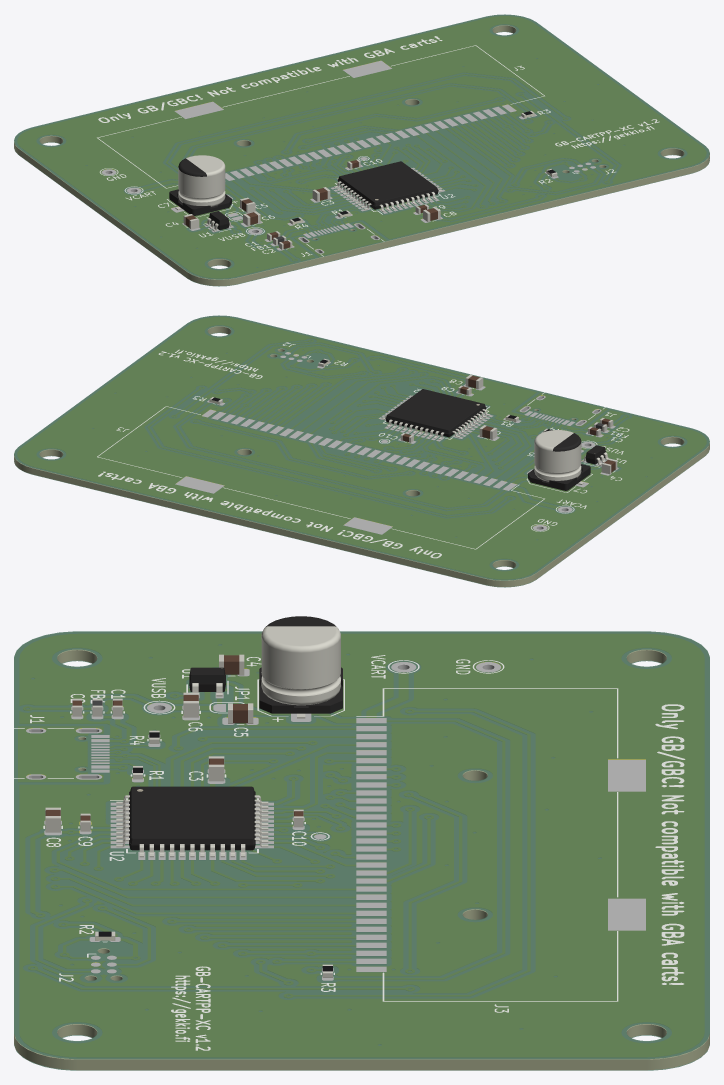
The model's file is board.glb.
3 renders of one model, top to bottom at view 1: azimuth 30°, elevation 25°; view 2: azimuth 150°, elevation 25°; view 3: azimuth 270°, elevation 25°, orthographic. The views are drawn at different scales.
Visible parts, largest first — view 1: board_soldermask (×2), board_copper, board_PCB, board_pad, board_silkscreen, TQFP-44_10x10mm_P0.8mm, CP_Elec_63x58; view 2: board_soldermask (×2), board_copper, board_PCB, board_pad, TQFP-44_10x10mm_P0.8mm, board_silkscreen, CP_Elec_63x58; view 3: board_soldermask (×2), board_copper, board_PCB, board_pad, TQFP-44_10x10mm_P0.8mm, board_silkscreen, CP_Elec_63x58, SOT-23-5.
Part boxes in pixels (box(x1,y1,x2,y2)): board_soldermask (×2): box(14, 14, 709, 286); board_copper: box(18, 16, 705, 277); board_PCB: box(14, 15, 709, 285); board_pad: box(101, 60, 595, 253); board_silkscreen: box(97, 36, 659, 256); TQFP-44_10x10mm_P0.8mm: box(334, 161, 442, 212); CP_Elec_63x58: box(169, 155, 231, 215); board_soldermask (×2): box(14, 315, 709, 587); board_copper: box(18, 317, 705, 578); board_PCB: box(14, 316, 709, 586); board_pad: box(175, 352, 618, 534); TQFP-44_10x10mm_P0.8mm: box(381, 389, 490, 439); board_silkscreen: box(97, 342, 629, 558); CP_Elec_63x58: box(528, 430, 590, 490); board_soldermask (×2): box(14, 631, 709, 1070); board_copper: box(18, 634, 703, 1056); board_PCB: box(14, 632, 709, 1070); board_pad: box(26, 662, 645, 980); TQFP-44_10x10mm_P0.8mm: box(116, 786, 268, 857); board_silkscreen: box(14, 655, 685, 1050); CP_Elec_63x58: box(259, 616, 342, 718); SOT-23-5: box(189, 667, 225, 696).
Size of the model in its own units: 0.08 by 0.00685 by 0.055.
